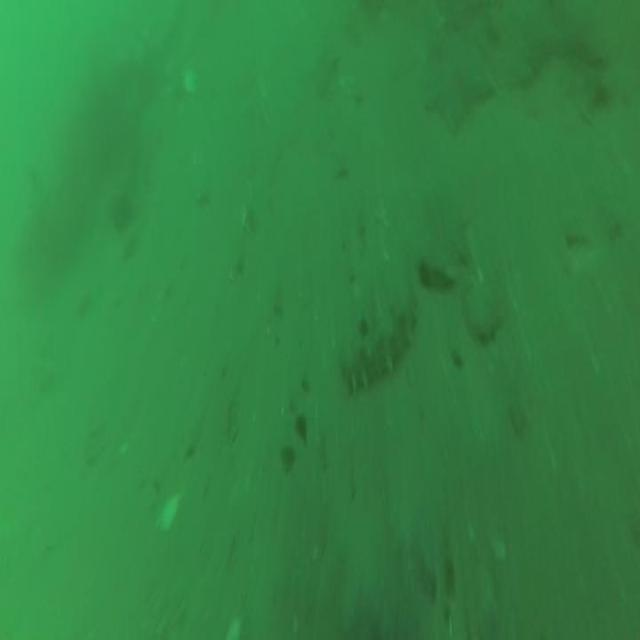holothurian: (342, 290, 417, 390)
starfish: (424, 60, 491, 133)
